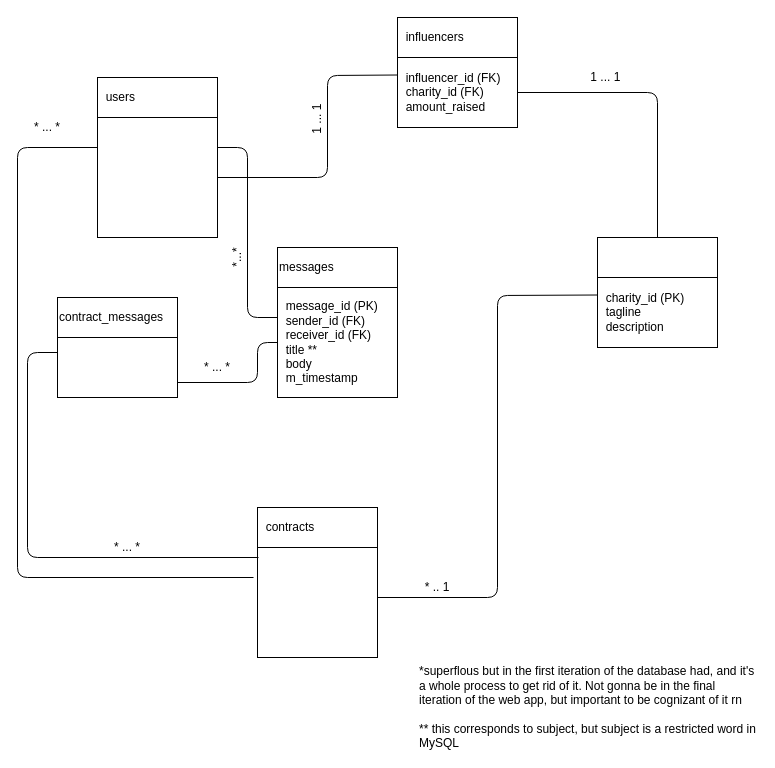
The diagram is 775 pixels wide and 768 high, and some of its shapes have lost their labels. Here are the shapes that lost their labels. From the top down, the box of each, then its label:
(96, 116, 218, 238): user_id (PK) first_name last_name dob e_mail is_influencer *
(596, 236, 718, 278): charity
(56, 336, 178, 398): contract_id (PK) (FK) message_id (PK) (FK)
(256, 546, 378, 658): contract_id (PK) influencer_id (FK) buyer_id (FK) monetary_value charity_id (FK)
